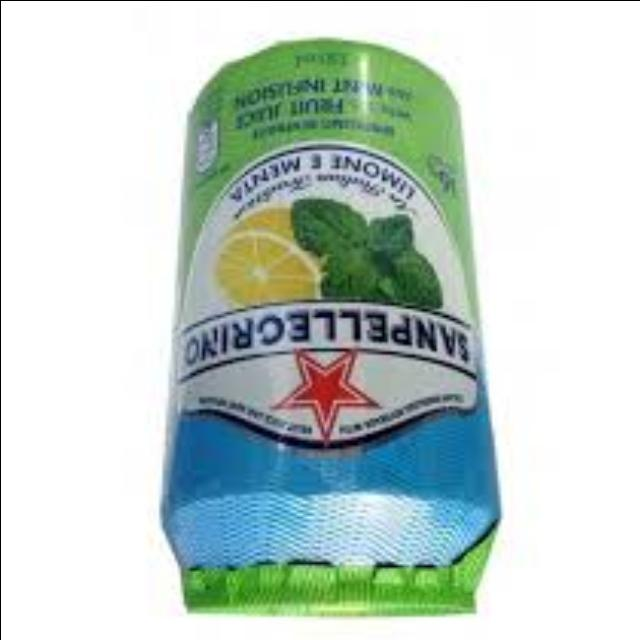metal: (168, 46, 500, 619)
